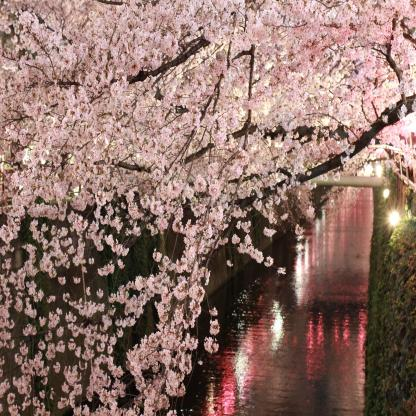Someiyoshino: (1, 4, 415, 413)
